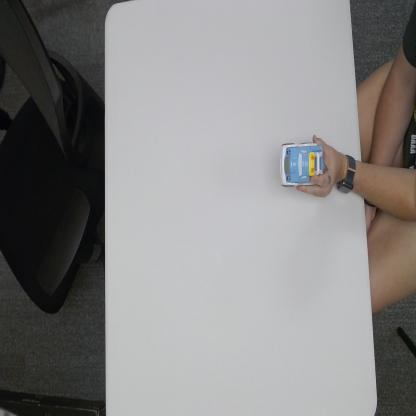Car: (278, 140, 326, 190)
Hand: (296, 130, 339, 200)
